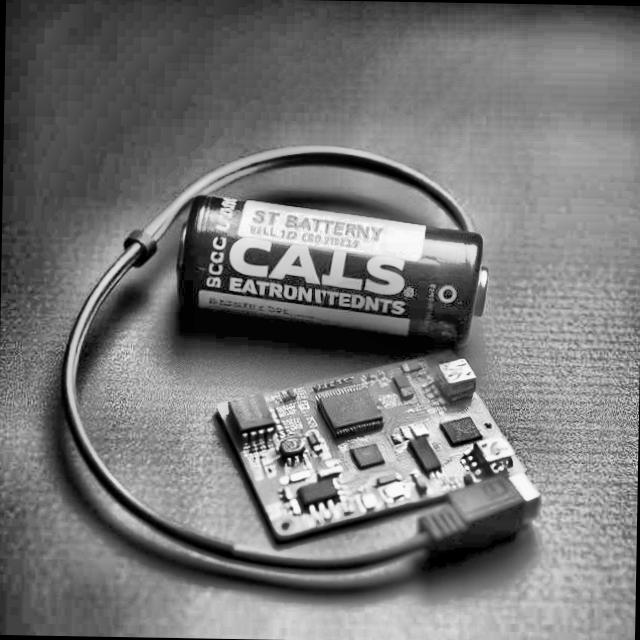Battery: (169, 194, 491, 338)
Cable: (58, 141, 546, 573)
PCB: (210, 345, 537, 543)
